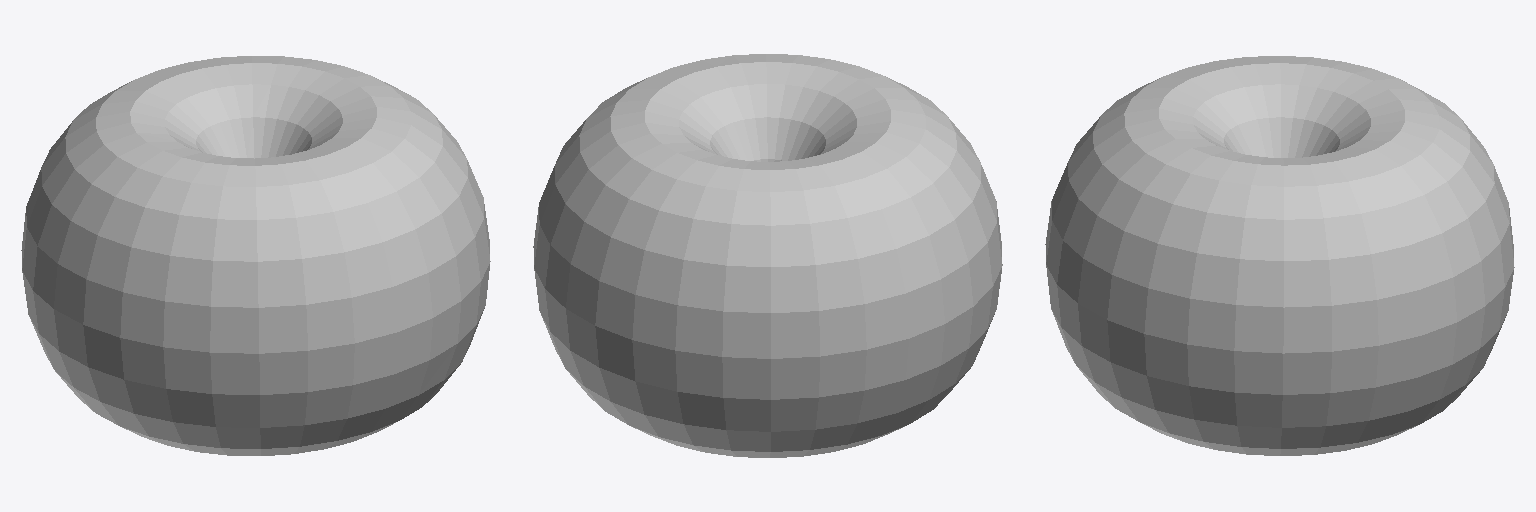
File: bead.obj
3 views of the same model, side by side, from view 1: azimuth 30°, elevation 25°; view 2: azimuth 150°, elevation 25°; view 3: azimuth 270°, elevation 25° (orthographic).
Visible parts, largest first — view 1: Torus.002; view 2: Torus.002; view 3: Torus.002.
Boxes of the visible parts, x1,y1,x2,y2 form: Torus.002: [21, 56, 490, 455]; Torus.002: [533, 54, 1002, 457]; Torus.002: [1045, 56, 1514, 455].
Bounding box in the file's own units: 0.0391 × 0.0262 × 0.0389.